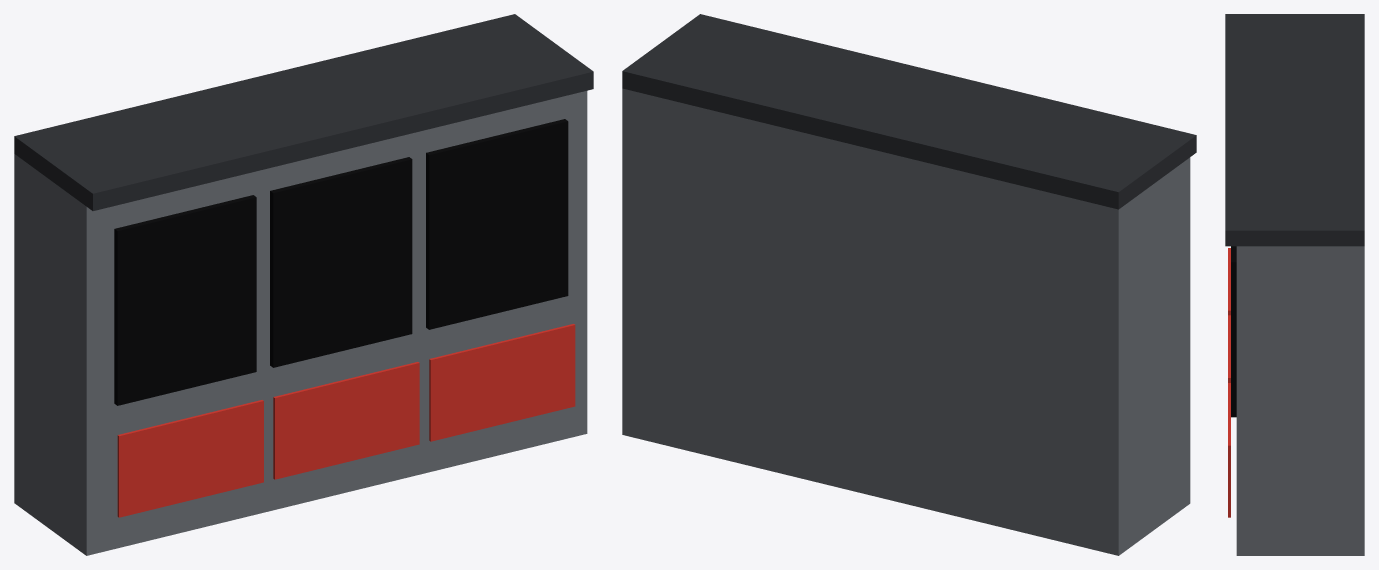
File: tech_console_bank.glb
3 renders of one model, left to right at view 1: azimuth 30°, elevation 25°; view 2: azimuth 150°, elevation 25°; view 3: azimuth 270°, elevation 25°, orthographic. The views are drawn at different scales.
Visible parts, largest first — view 1: sw5e_int_tech_console_bank; view 2: sw5e_int_tech_console_bank; view 3: sw5e_int_tech_console_bank.
Part boxes in pixels (<box>): sw5e_int_tech_console_bank: <box>14,14,593,555</box>; sw5e_int_tech_console_bank: <box>622,14,1196,555</box>; sw5e_int_tech_console_bank: <box>1225,14,1364,555</box>.
Bounding box in the file's own units: 1.8 × 1.26 × 0.49.
